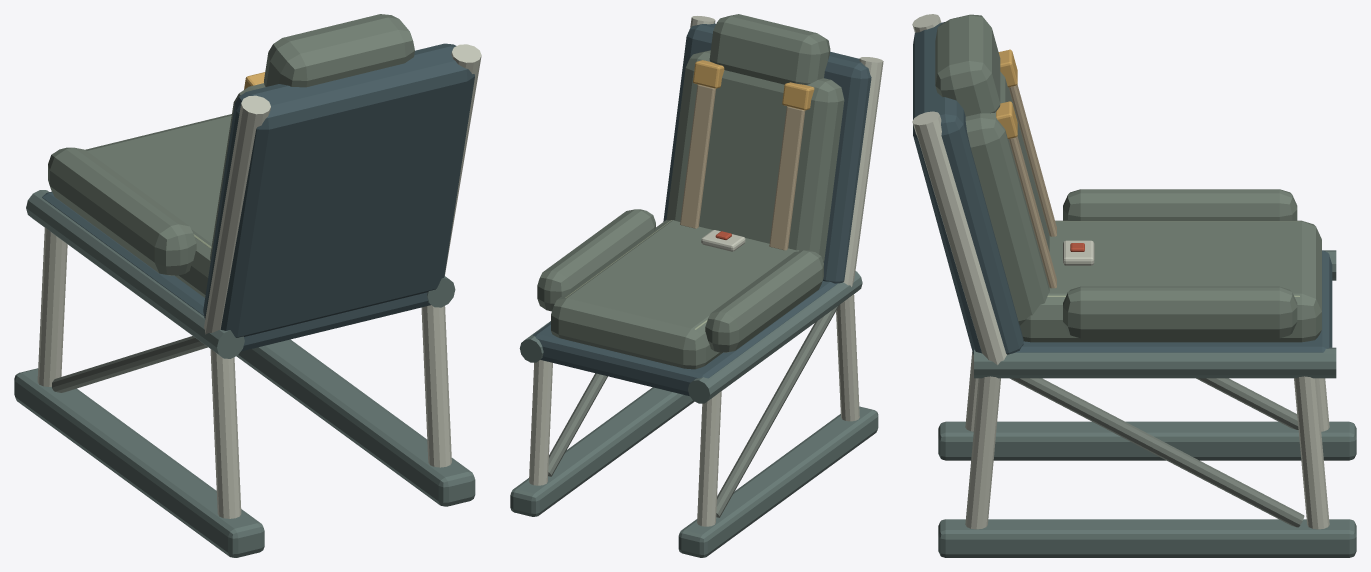
File: crew_seat.glb
3 views of the same model, side by side, from view 1: azimuth 30°, elevation 25°; view 2: azimuth 150°, elevation 25°; view 3: azimuth 270°, elevation 25° (orthographic). The views are drawn at different scales.
Visible parts, largest first — view 1: crew_seat; view 2: crew_seat; view 3: crew_seat.
Part boxes in pixels (left/top/right/bottom): crew_seat: left=14, top=14, right=481, bottom=557; crew_seat: left=510, top=14, right=883, bottom=557; crew_seat: left=912, top=14, right=1356, bottom=557.
Size of the model in its own units: 0.538 by 1.01 by 0.871.
